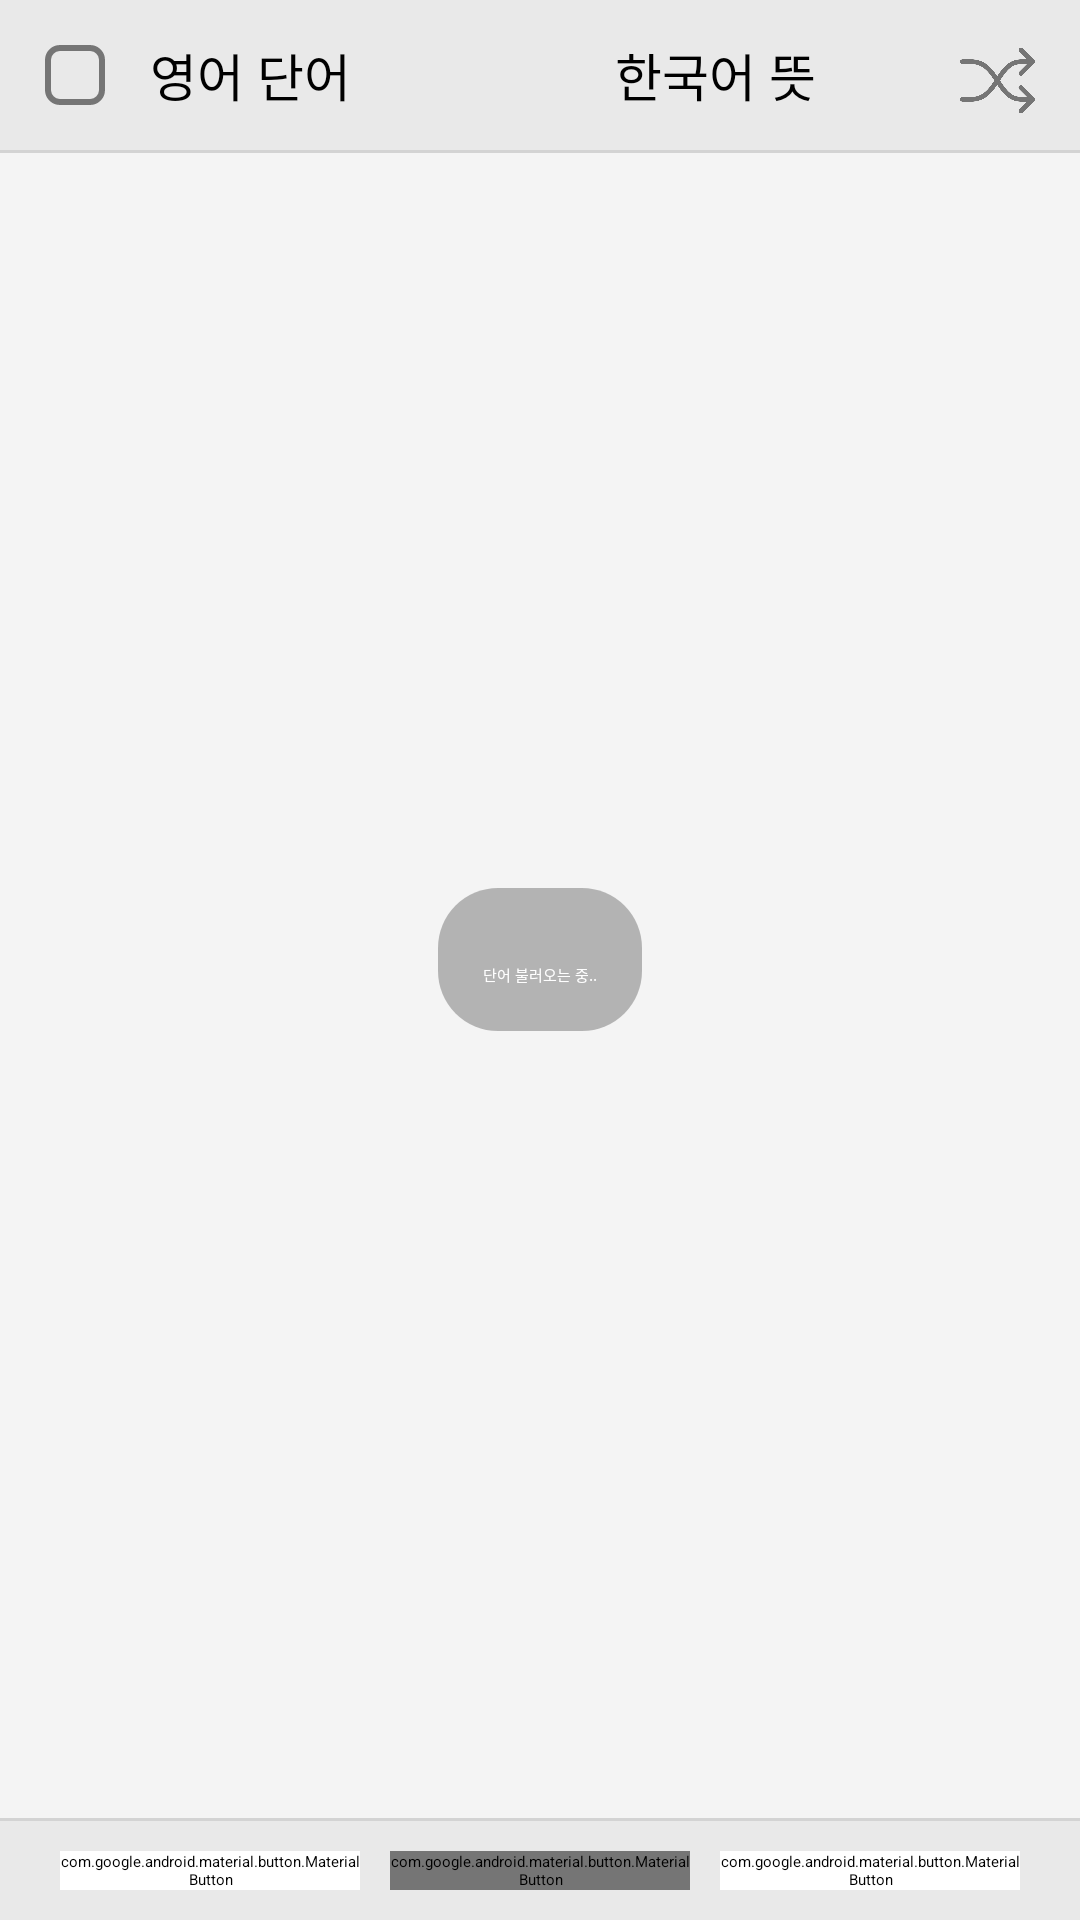

Screen size 1080px x 1920px. Icon name, then its box in pixels as (x1, y1, x2, y2):
checkbox unchecked: (45, 45, 105, 105)
shuffle: (960, 48, 1035, 113)
